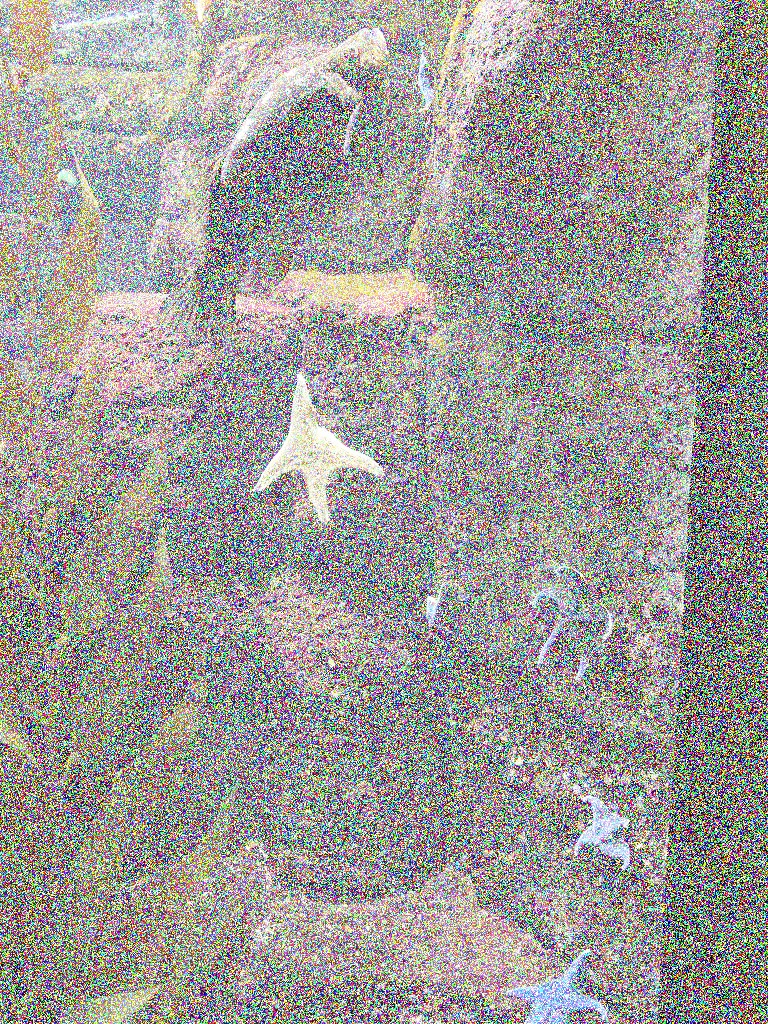fish: (154, 26, 390, 346)
starfish: (248, 374, 382, 522), (528, 564, 614, 682), (510, 948, 612, 1024), (572, 794, 632, 880), (420, 585, 466, 671)
